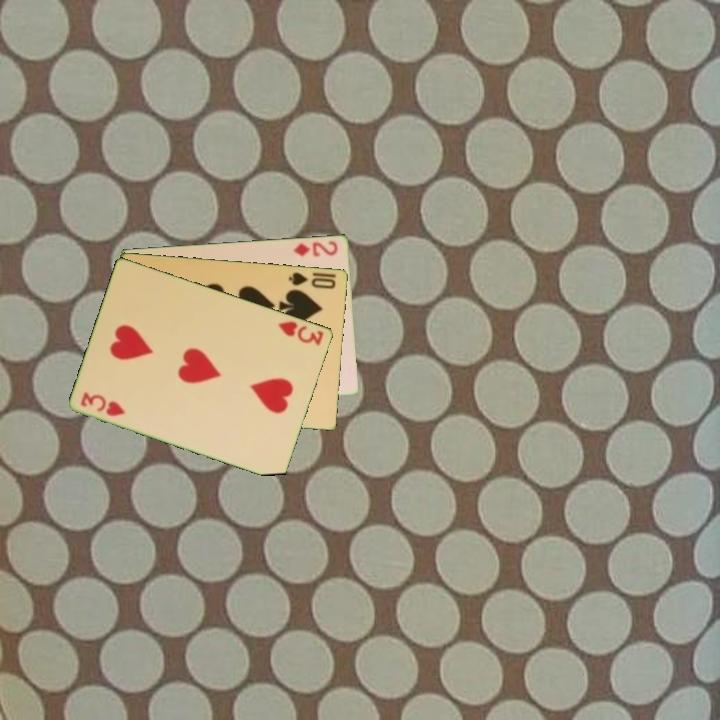10s: (285, 268, 339, 291)
2d: (291, 237, 341, 259)
3h: (275, 317, 327, 348), (77, 388, 129, 419)
